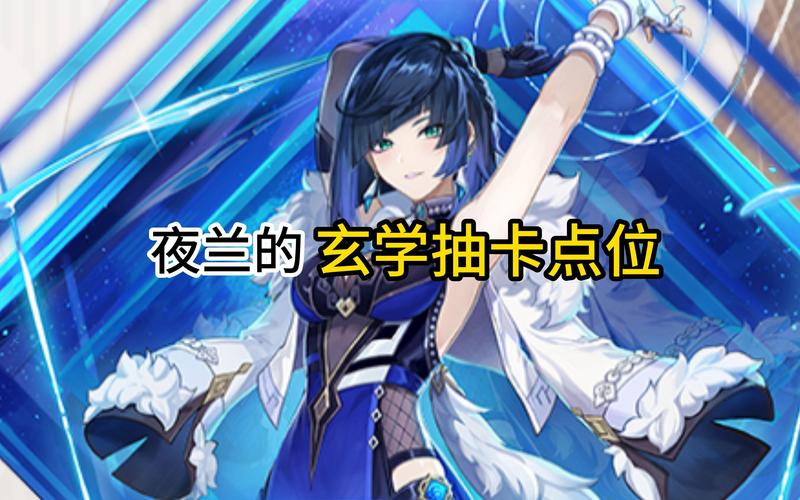夜兰: (240, 1, 699, 499)
